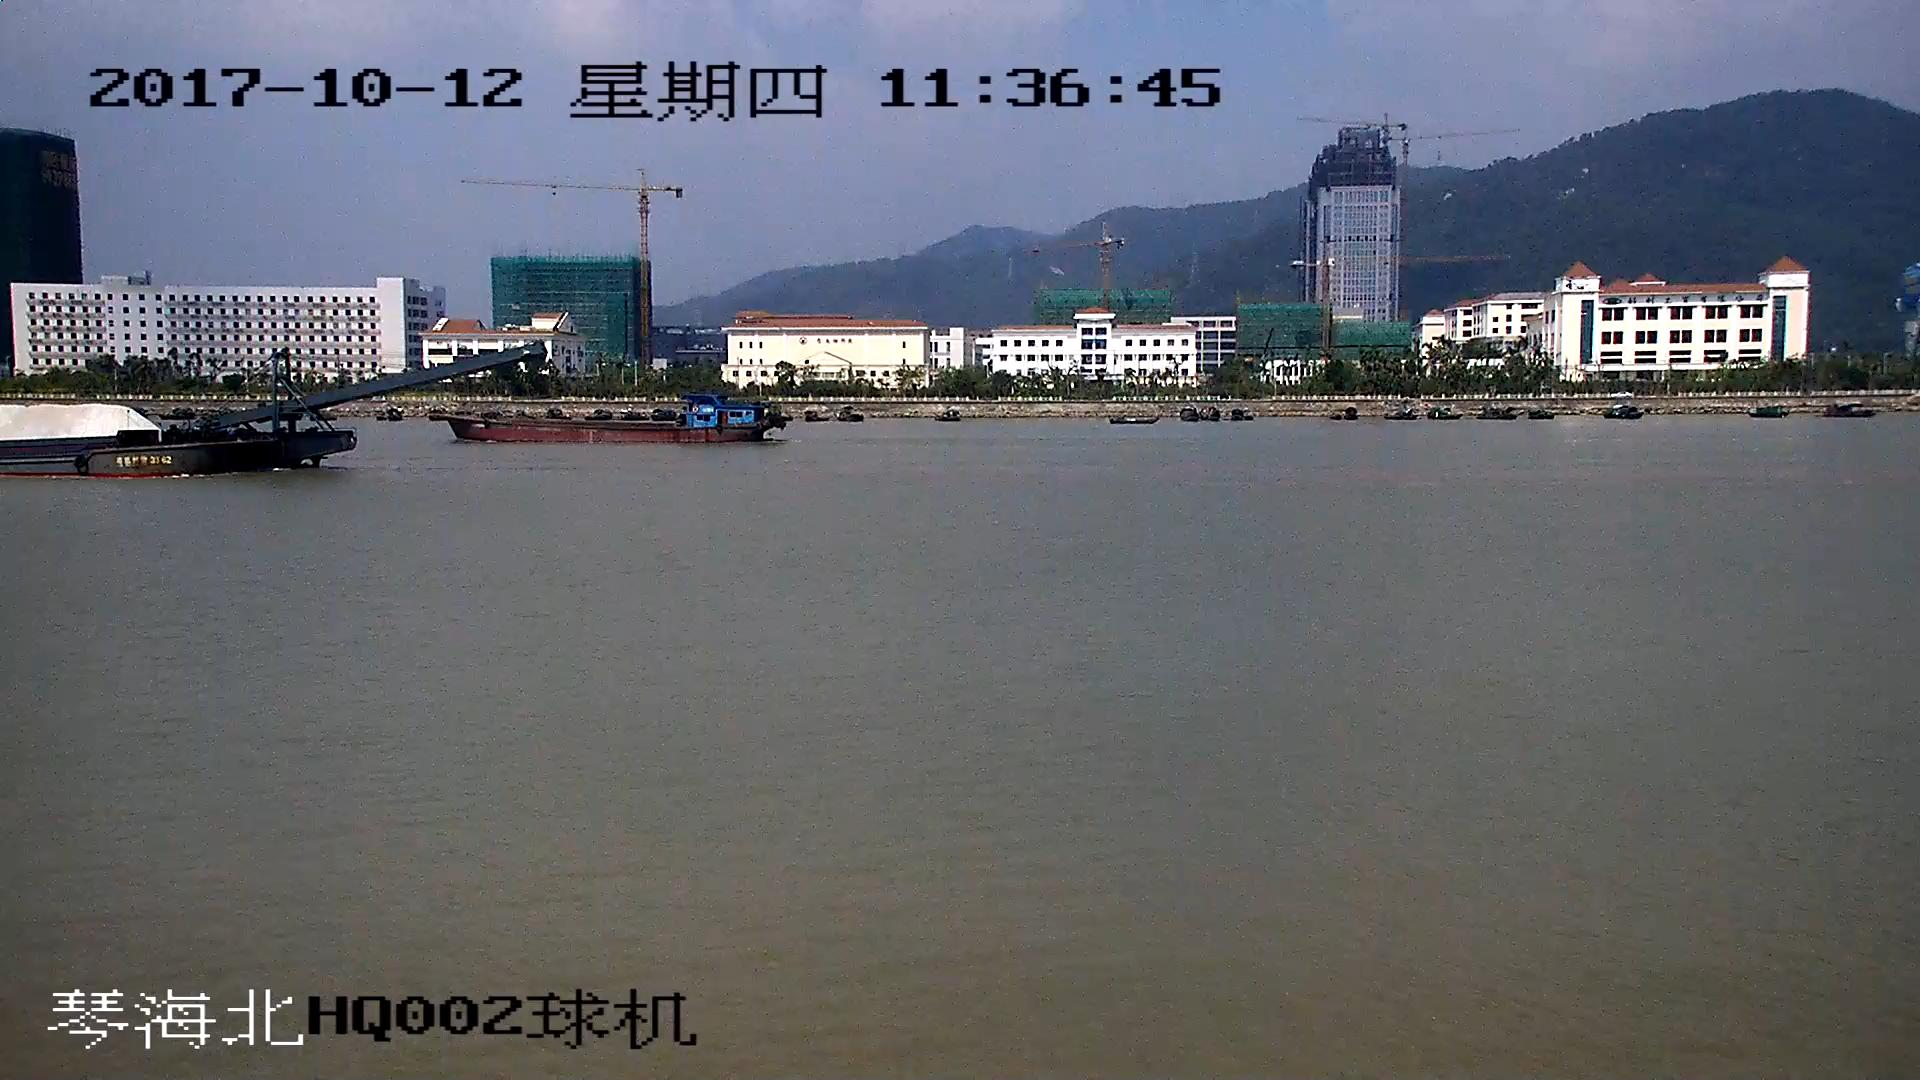bulk cargo carrier: (436, 396, 787, 447)
ore carrier: (1, 345, 539, 474)
